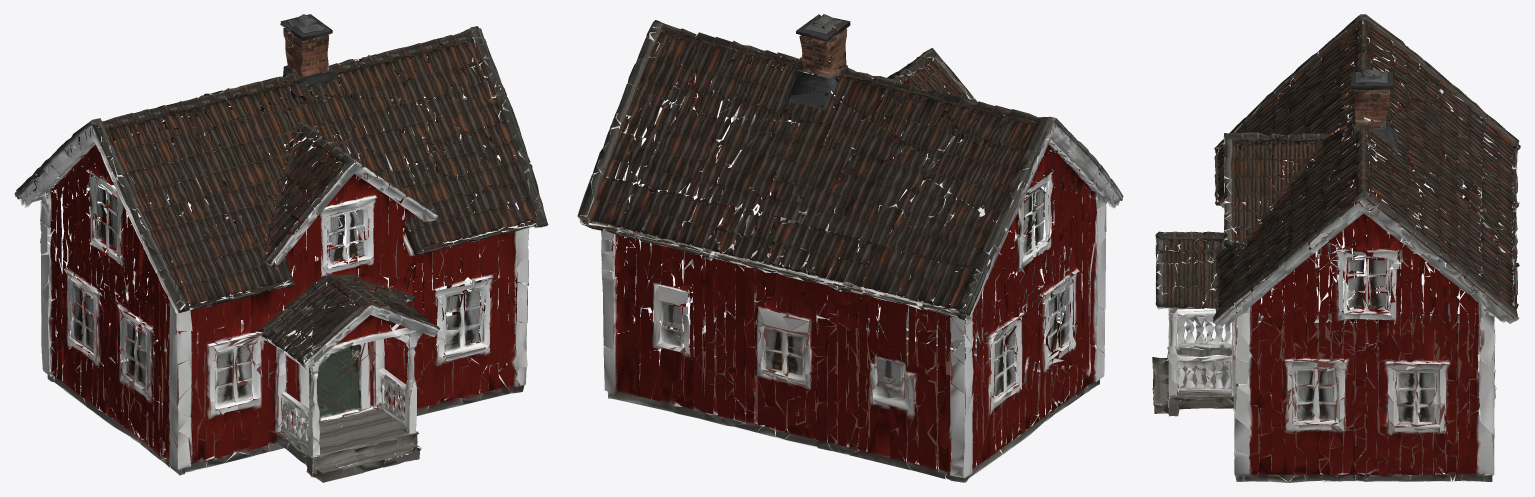
File: czerwony_dom_skandynawski.glb
3 renders of one model, left to right at view 1: azimuth 30°, elevation 25°; view 2: azimuth 150°, elevation 25°; view 3: azimuth 270°, elevation 25°, orthographic. The views are drawn at different scales.
Visible parts, largest first — view 1: Mesh_0; view 2: Mesh_0; view 3: Mesh_0.
Part boxes in pixels (x1,y1,x2,y2): Mesh_0: (14, 14, 548, 482); Mesh_0: (577, 14, 1123, 482); Mesh_0: (1152, 14, 1520, 482).
Bounding box in the file's own units: 1.9 × 1.68 × 1.63.
Materials: 1 (1 with a texture image).
